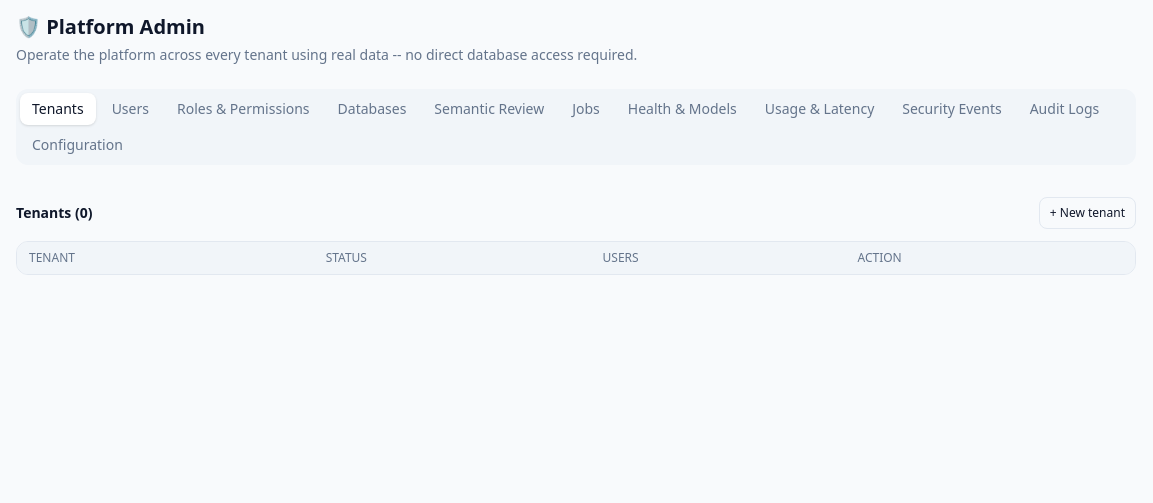
Test: PlatformAdmin › shows the semantic review queue counts
The width and height of the screenshot is (1153, 503).
Click the tab "Semantic Review" at (489, 109), box [422,93,556,125]
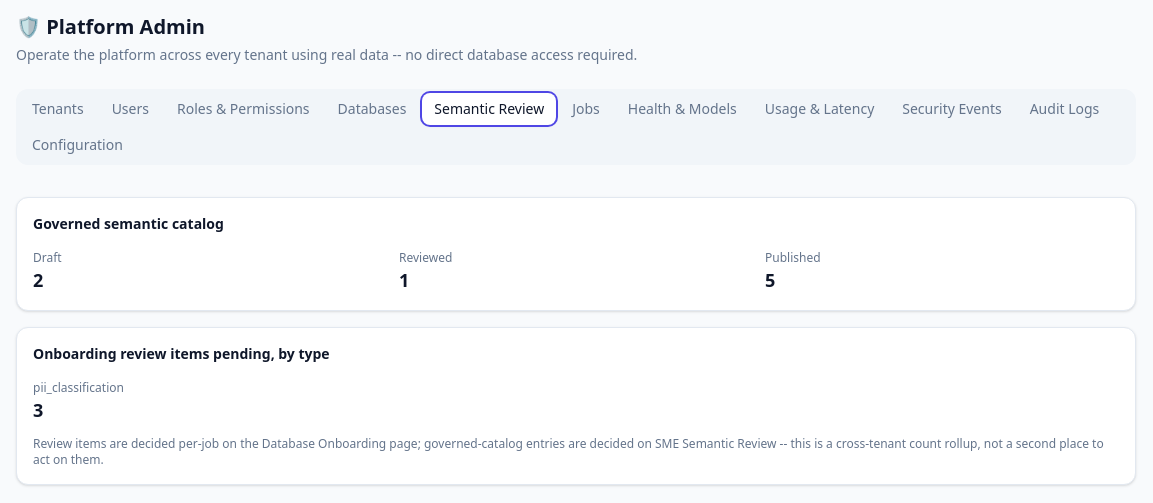
Now the text "2" is shown, box [33,268,43,292]
Now the text "pii_classification" is shown, box [33,379,124,396]
